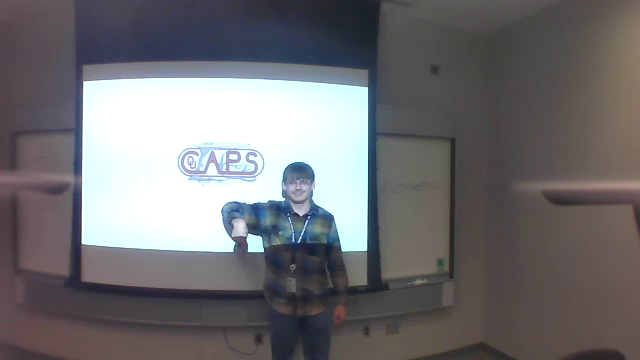down: (222, 218, 251, 264)
